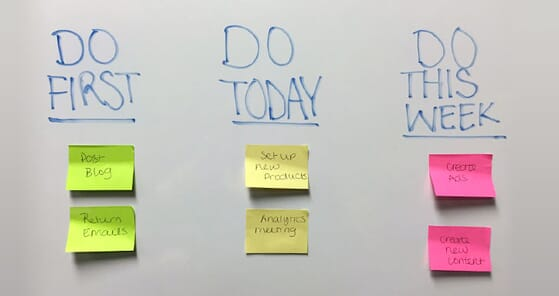Note: (62, 145, 136, 192), (66, 206, 135, 251), (245, 143, 312, 189), (428, 154, 497, 198), (244, 207, 310, 252), (429, 226, 493, 272)
